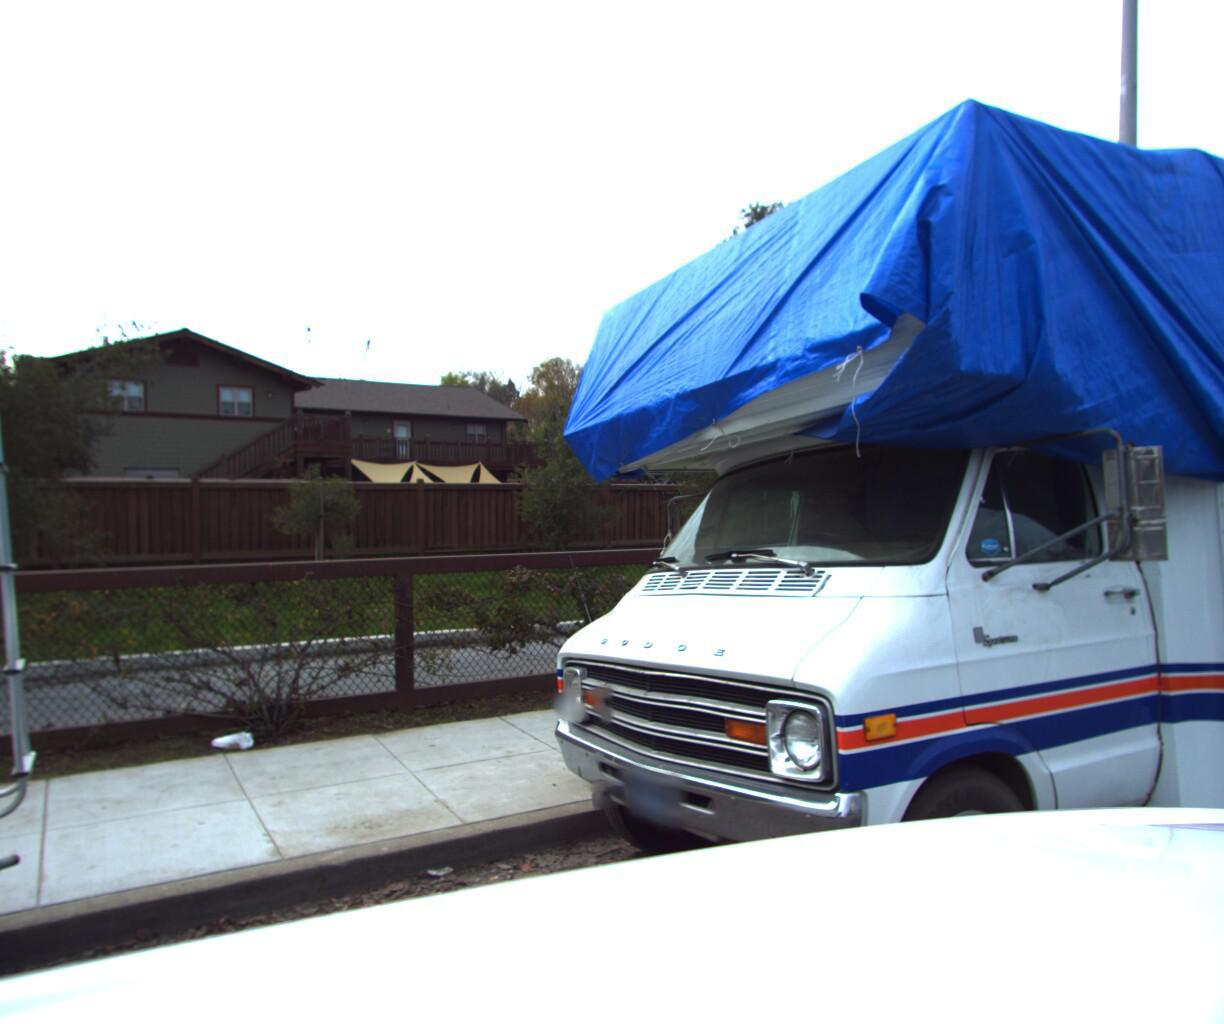other_vehicle: (478, 0, 1224, 1024)
